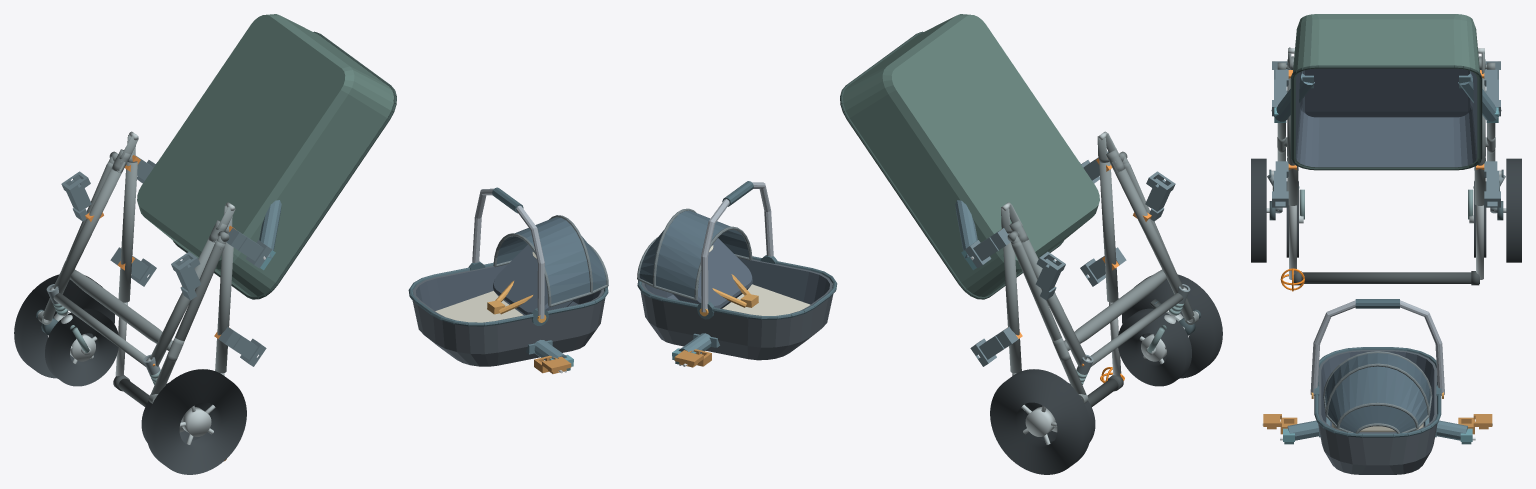
Rendered from D13_w650_state3_wheel_M.glb.
3 views of the same model, side by side, from view 1: azimuth 30°, elevation 25°; view 2: azimuth 150°, elevation 25°; view 3: azimuth 270°, elevation 25° (orthographic). The views are drawn at different scales.
Parts seen in each view (by area): view 1: D13_Lower, D13_Upper, RL_tire.011, FR_tire.011, RR_tire.011, main_upper_1.012, main_lower_1.012, V46_rearbar.011, V46_rear_leg_-1.011, main_upper_-1.012, main_lower_-1.012, front_fixed_round_tube.011 (+7 smaller); view 2: D13_Lower, D13_Upper, RR_tire.011, FL_tire.011, RL_tire.011, main_upper_-1.012, V46_rearbar.011, main_lower_-1.012, V46_rear_leg_1.011, main_upper_1.012, main_lower_1.012, front_fixed_round_tube.011 (+7 smaller); view 3: D13_Lower, D13_Upper, round_handle.013, RL_tire.011, RR_tire.011, D13_Lower_Mount_M, D13_Upper_Mount_H, Universal_Cabin_Receiver_H_1, Universal_Cabin_Receiver_H_-1, main_upper_1.012, main_upper_-1.012, handle_slider_1.013 (+7 smaller).
Boxes of the visible parts, x1=… form: D13_Lower: x1=137, y1=14, x2=396, y2=299; D13_Upper: x1=408, y1=187, x2=608, y2=366; RL_tire.011: x1=146, y1=369, x2=246, y2=474; FR_tire.011: x1=45, y1=308, x2=118, y2=386; RR_tire.011: x1=14, y1=274, x2=114, y2=378; main_upper_1.012: x1=118, y1=162, x2=137, y2=302; main_lower_1.012: x1=53, y1=162, x2=125, y2=294; V46_rearbar.011: x1=70, y1=269, x2=172, y2=350; V46_rear_leg_-1.011: x1=151, y1=241, x2=225, y2=394; main_upper_-1.012: x1=215, y1=233, x2=233, y2=373; main_lower_-1.012: x1=150, y1=238, x2=217, y2=366; front_fixed_round_tube.011: x1=53, y1=293, x2=146, y2=366; D13_Lower: x1=840, y1=14, x2=1099, y2=299; D13_Upper: x1=637, y1=181, x2=837, y2=360; RR_tire.011: x1=990, y1=369, x2=1090, y2=474; FL_tire.011: x1=1118, y1=308, x2=1191, y2=386; RL_tire.011: x1=1122, y1=274, x2=1222, y2=378; main_upper_-1.012: x1=1099, y1=162, x2=1118, y2=302; V46_rearbar.011: x1=1064, y1=269, x2=1166, y2=350; main_lower_-1.012: x1=1111, y1=162, x2=1183, y2=294; V46_rear_leg_1.011: x1=1011, y1=241, x2=1085, y2=394; main_upper_1.012: x1=1003, y1=233, x2=1021, y2=373; main_lower_1.012: x1=1019, y1=238, x2=1086, y2=366; front_fixed_round_tube.011: x1=1090, y1=293, x2=1183, y2=366; D13_Lower: x1=1290, y1=14, x2=1482, y2=170; D13_Upper: x1=1310, y1=299, x2=1444, y2=474; round_handle.013: x1=1301, y1=272, x2=1479, y2=283; RL_tire.011: x1=1251, y1=158, x2=1266, y2=262; RR_tire.011: x1=1506, y1=158, x2=1521, y2=262; D13_Lower_Mount_M: x1=1271, y1=71, x2=1501, y2=122; D13_Upper_Mount_H: x1=1280, y1=417, x2=1475, y2=444; Universal_Cabin_Receiver_H_1: x1=1484, y1=161, x2=1500, y2=207; Universal_Cabin_Receiver_H_-1: x1=1272, y1=161, x2=1288, y2=207; main_upper_1.012: x1=1474, y1=78, x2=1485, y2=205; main_upper_-1.012: x1=1287, y1=78, x2=1298, y2=205; handle_slider_1.013: x1=1476, y1=205, x2=1483, y2=279.
Size of the model in its own units: 1.63 by 1.08 by 0.781.
